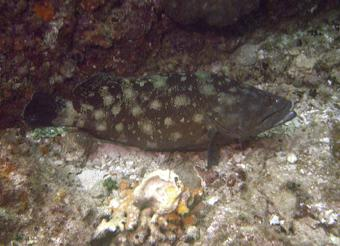Serranidae -Groupers-: (23, 68, 297, 167)
